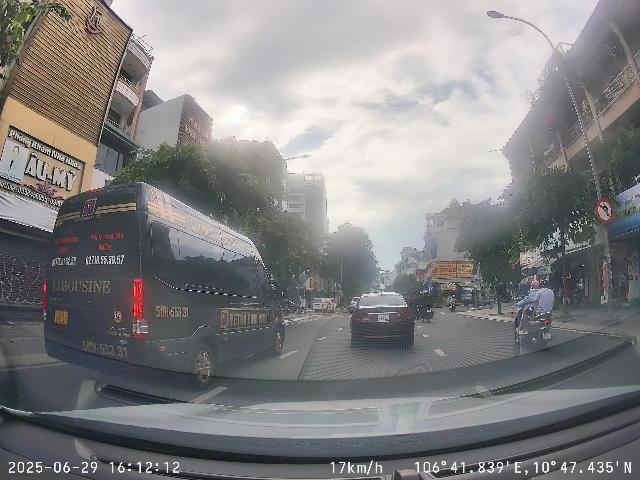123a-cam-re-trai: (595, 198, 614, 224)
